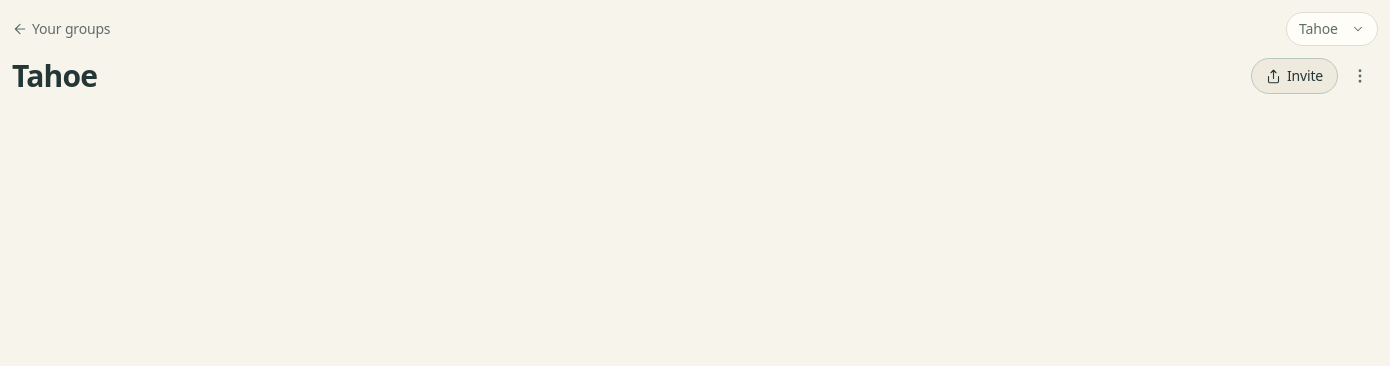
Scenario: the menu getting out of the way › closes after Export activity
Click the button named "Group options" at (1360, 76), box top-left (1342, 58), bottom-right (1378, 94)
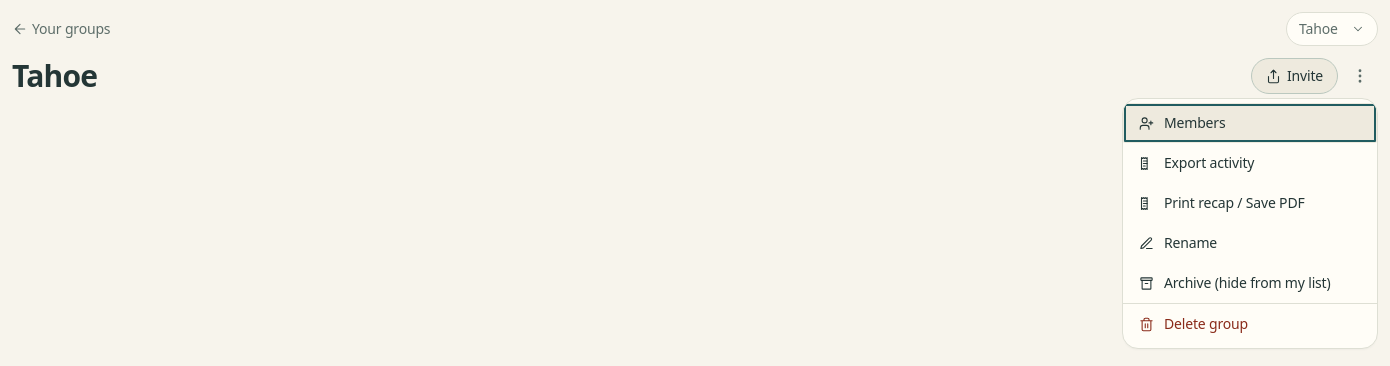
Click the menu item "Export activity" at (1250, 163), box top-left (1123, 143), bottom-right (1377, 183)
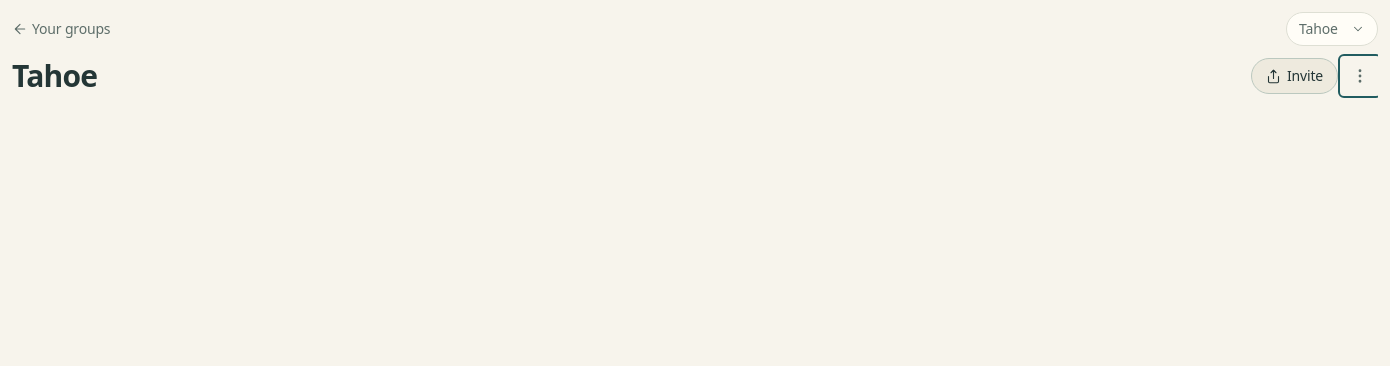
Now the menu is gone
